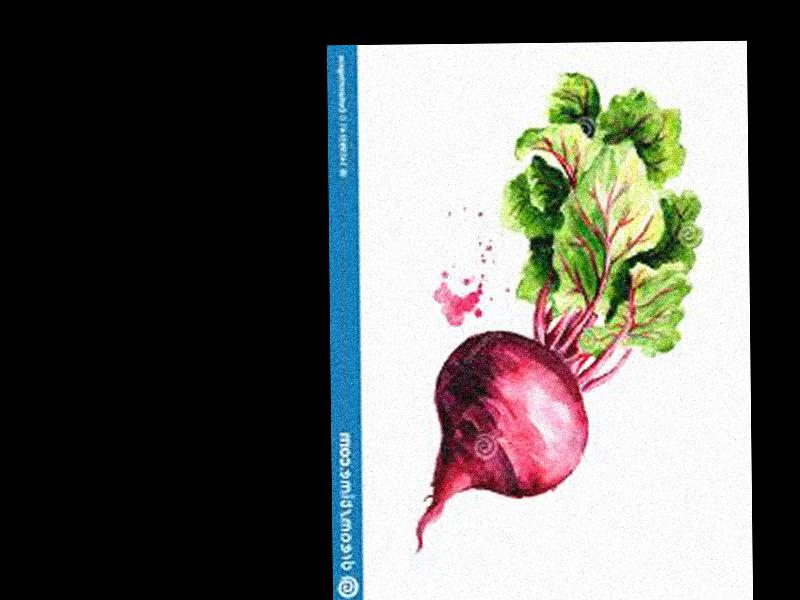Beet: (410, 69, 707, 549)
